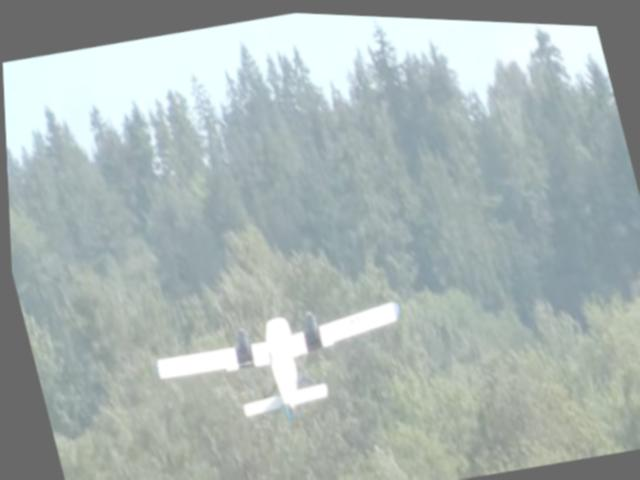uav: (142, 281, 421, 446)
